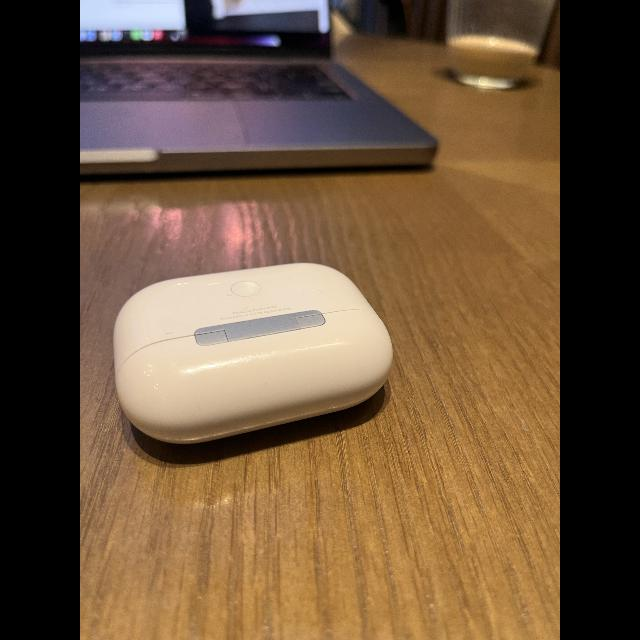AirPods Pro: (110, 259, 398, 455)
